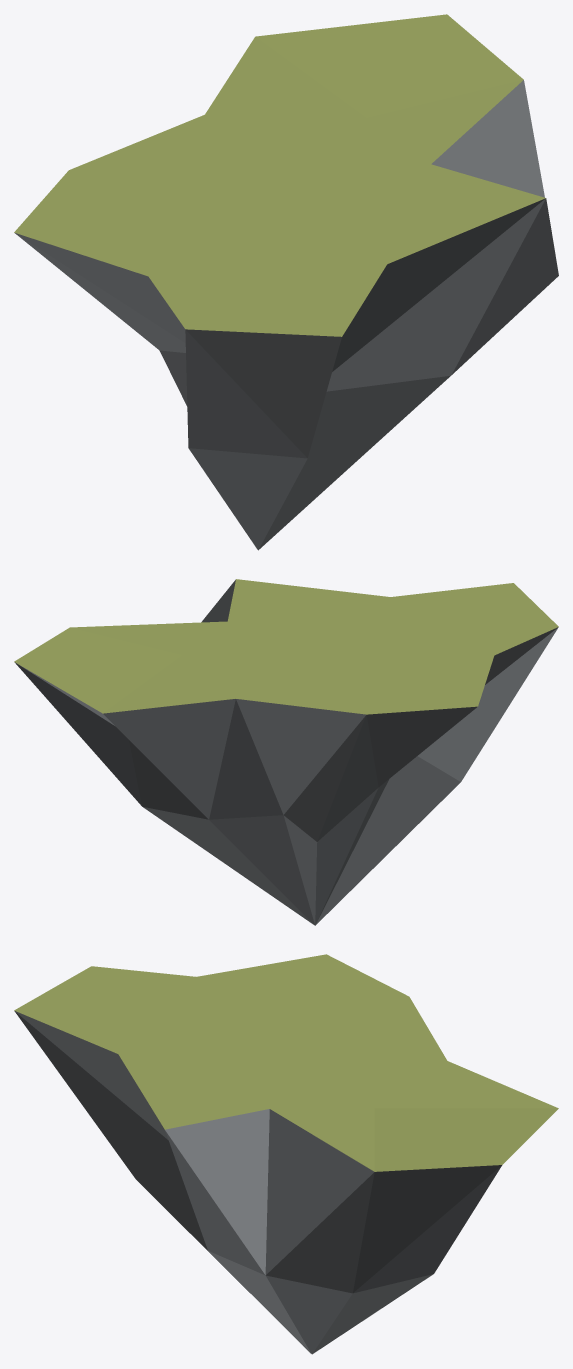
Rendered from island03.fbx.
3 views of the same model, one above another, from view 1: azimuth 30°, elevation 25°; view 2: azimuth 150°, elevation 25°; view 3: azimuth 270°, elevation 25° (orthographic). The views are drawn at different scales.
Parts seen in each view (by area): view 1: pPlane4; view 2: pPlane4; view 3: pPlane4.
Boxes of the visible parts, left/top/right/bottom form: pPlane4: left=14, top=14, right=558, bottom=550; pPlane4: left=14, top=579, right=558, bottom=925; pPlane4: left=14, top=954, right=558, bottom=1354.
Bounding box in the file's own units: 0.0491 × 0.0329 × 0.0519.
